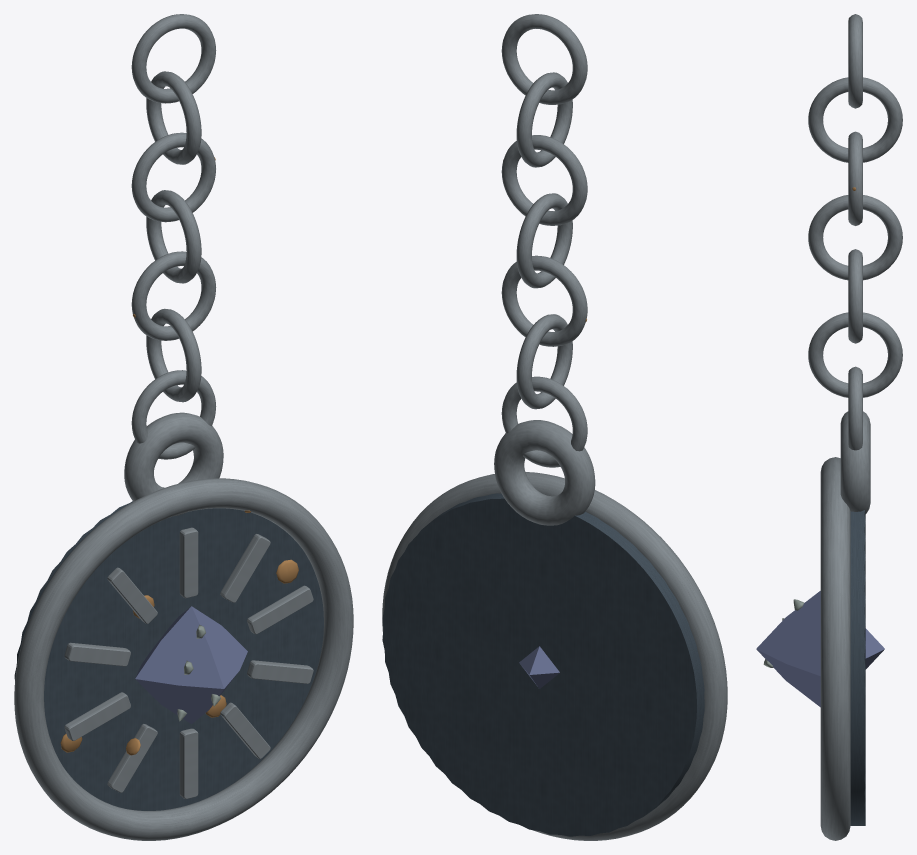
3 views of the same model, side by side, from view 1: azimuth 30°, elevation 25°; view 2: azimuth 150°, elevation 25°; view 3: azimuth 270°, elevation 25° (orthographic). The views are drawn at different scales.
Visible parts, largest first — view 1: edge hardware, machined receiver, polished stone, peened pin; view 2: machined receiver, edge hardware, polished stone; view 3: edge hardware, machined receiver, polished stone.
Boxes of the visible parts, x1=… form: edge hardware: x1=14, y1=14, x2=353, y2=840; machined receiver: x1=14, y1=501, x2=323, y2=810; polished stone: x1=135, y1=606, x2=247, y2=723; peened pin: x1=60, y1=559, x2=298, y2=752; machined receiver: x1=382, y1=493, x2=704, y2=836; edge hardware: x1=382, y1=14, x2=727, y2=840; polished stone: x1=519, y1=646, x2=559, y2=688; edge hardware: x1=808, y1=14, x2=902, y2=840; machined receiver: x1=850, y1=510, x2=865, y2=825; polished stone: x1=756, y1=591, x2=884, y2=707.
Size of the model in its own units: 0.077 by 0.178 by 0.0295.
Materials: 5 (2 with a texture image).
